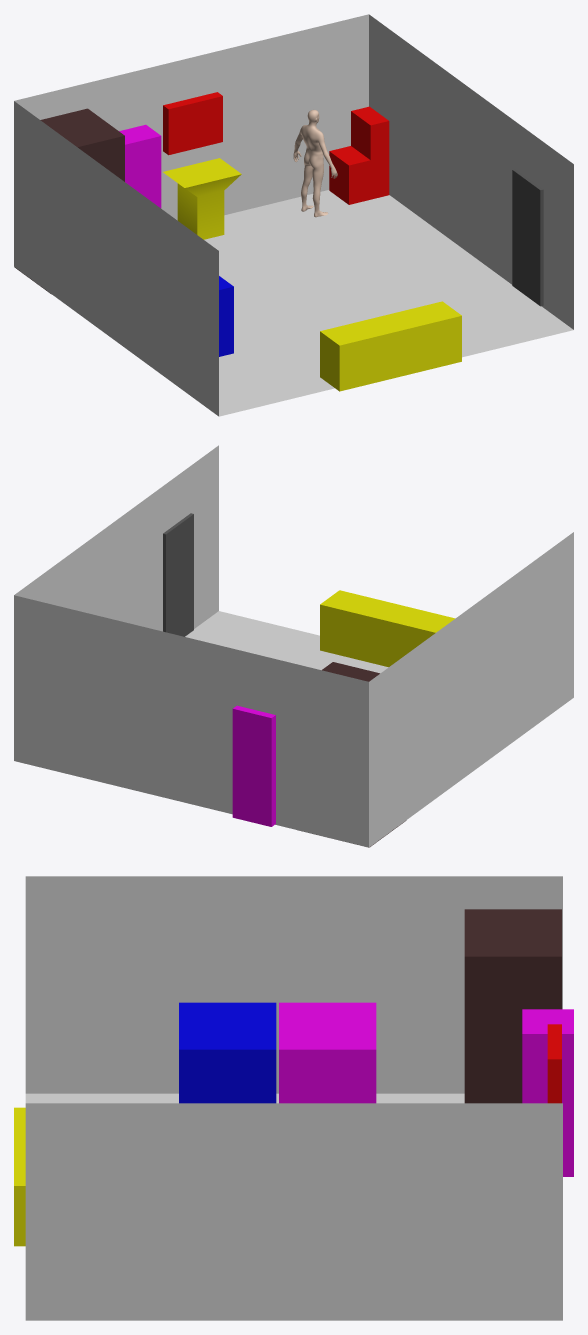
The model's file is Blockout_Bathroom.fbx.
The picture shows the model from 3 angles, top to bottom: view 1: azimuth 30°, elevation 25°; view 2: azimuth 150°, elevation 25°; view 3: azimuth 270°, elevation 25°; orthographic projection. The views are drawn at different scales.
Parts seen in each view (by area): view 1: Badrum, Bathtub, Toilet, Door, Sink, Mirror, Shower, Shelf, He_pee, Dryer; view 2: Badrum, Bathtub, Shelf, Door, Shower; view 3: Badrum, Shower, Washer, Dryer, Shelf, Bathtub, Mirror.
Part boxes in pixels (box(x1,y1,x2,y2)): Badrum: box(14, 14, 573, 416); Bathtub: box(320, 301, 461, 391); Toilet: box(329, 106, 389, 204); Door: box(512, 169, 543, 306); Sink: box(163, 158, 241, 239); Mirror: box(163, 92, 222, 155); Shower: box(14, 108, 124, 294); Shelf: box(119, 124, 161, 208); He_pee: box(293, 109, 337, 217); Dryer: box(219, 276, 233, 356); Badrum: box(14, 445, 573, 847); Bathtub: box(320, 590, 455, 667); Shelf: box(232, 705, 275, 826); Door: box(163, 513, 193, 636); Shower: box(322, 662, 406, 847); Badrum: box(25, 876, 562, 1320); Shower: box(464, 909, 561, 1103); Washer: box(279, 1002, 376, 1103); Dryer: box(179, 1002, 276, 1103); Shelf: box(522, 1009, 573, 1176); Bathtub: box(14, 1107, 25, 1246); Mirror: box(547, 1024, 561, 1103).
Bounding box in the file's own units: 21 × 9.43 × 21.89.
